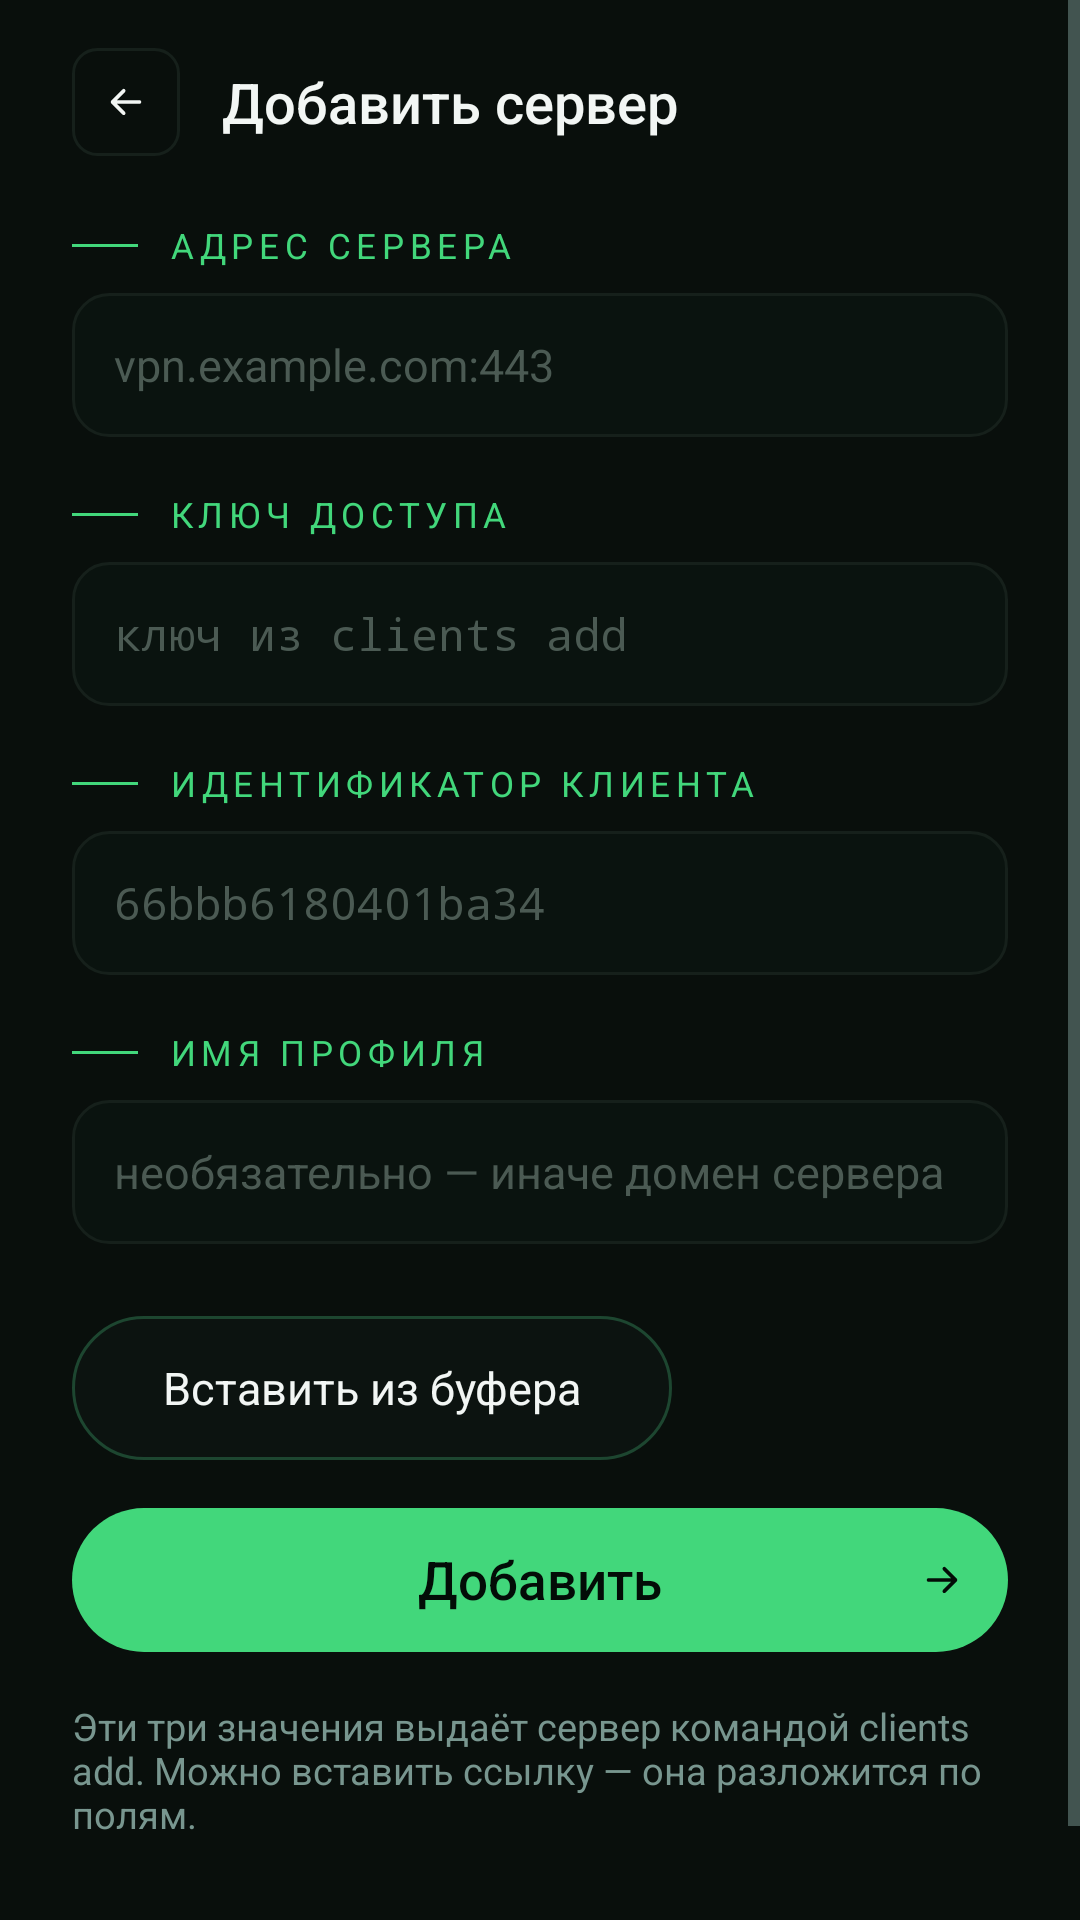

Icons on this 1080 × 1920 Android screen, each with its box as (x1, y1, x2, y2):
arrow right: (926, 1566, 958, 1593)
Назад: (110, 88, 142, 115)
